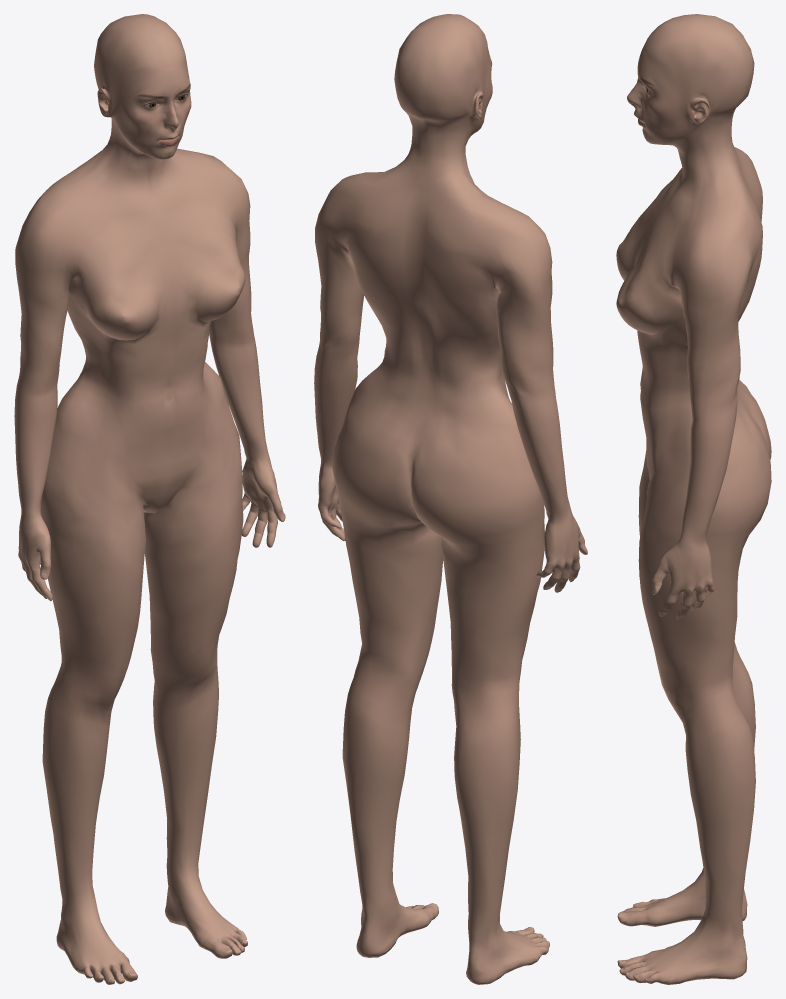
Rendered from woman_central_v2.glb.
The picture shows the model from 3 angles, left to right: view 1: azimuth 30°, elevation 25°; view 2: azimuth 150°, elevation 25°; view 3: azimuth 270°, elevation 25°; orthographic projection.
Parts seen in each view (by area): view 1: basemesh_female_body; view 2: basemesh_female_body; view 3: basemesh_female_body.
Part boxes in pixels (<box>): basemesh_female_body: <box>14,14,285,984</box>; basemesh_female_body: <box>314,14,587,984</box>; basemesh_female_body: <box>616,14,771,984</box>.
Size of the model in its own units: 0.4716 by 1.68 by 0.2535.
Materials: 3 (2 with a texture image).
